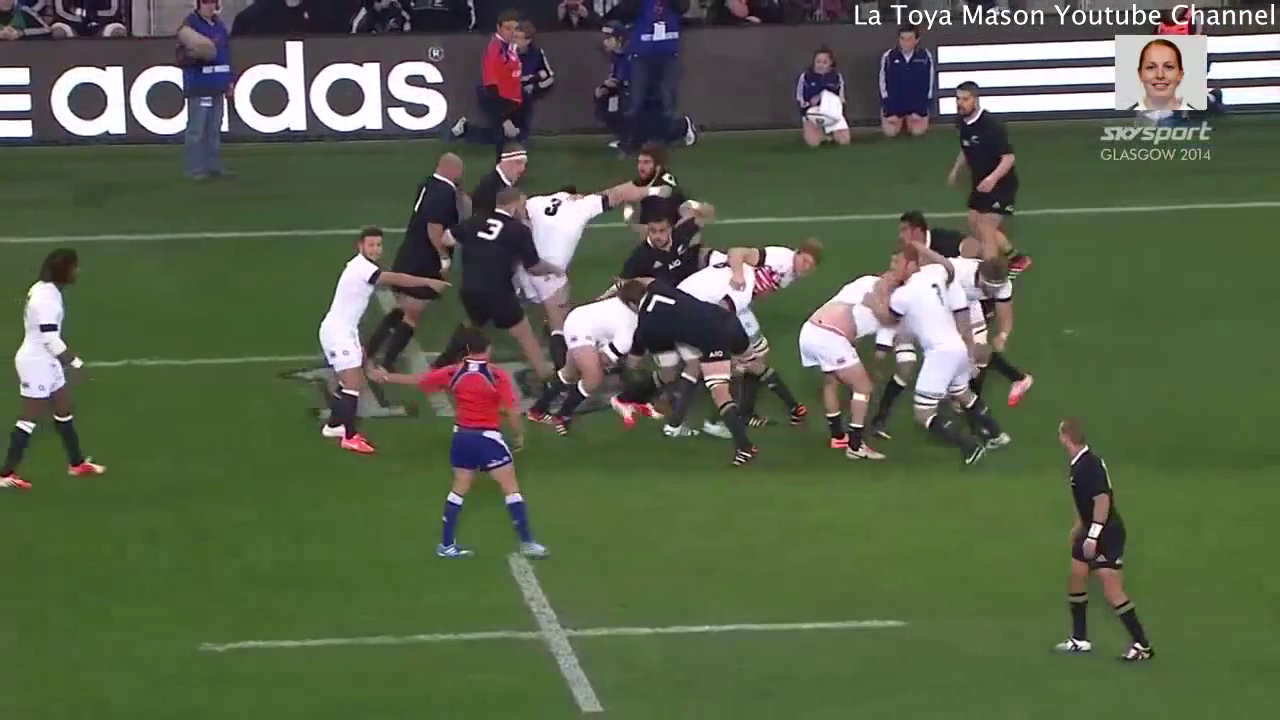player: (365, 324, 553, 560), (620, 276, 806, 465), (311, 216, 449, 464), (1037, 415, 1161, 677), (880, 245, 1013, 468), (361, 131, 480, 380), (1, 239, 111, 500), (439, 176, 561, 408), (798, 260, 893, 468), (516, 168, 639, 325), (938, 84, 1033, 282), (604, 212, 735, 290), (725, 227, 831, 296), (626, 146, 704, 224), (461, 146, 549, 211)
